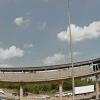Bridge: (5, 60, 91, 93)
